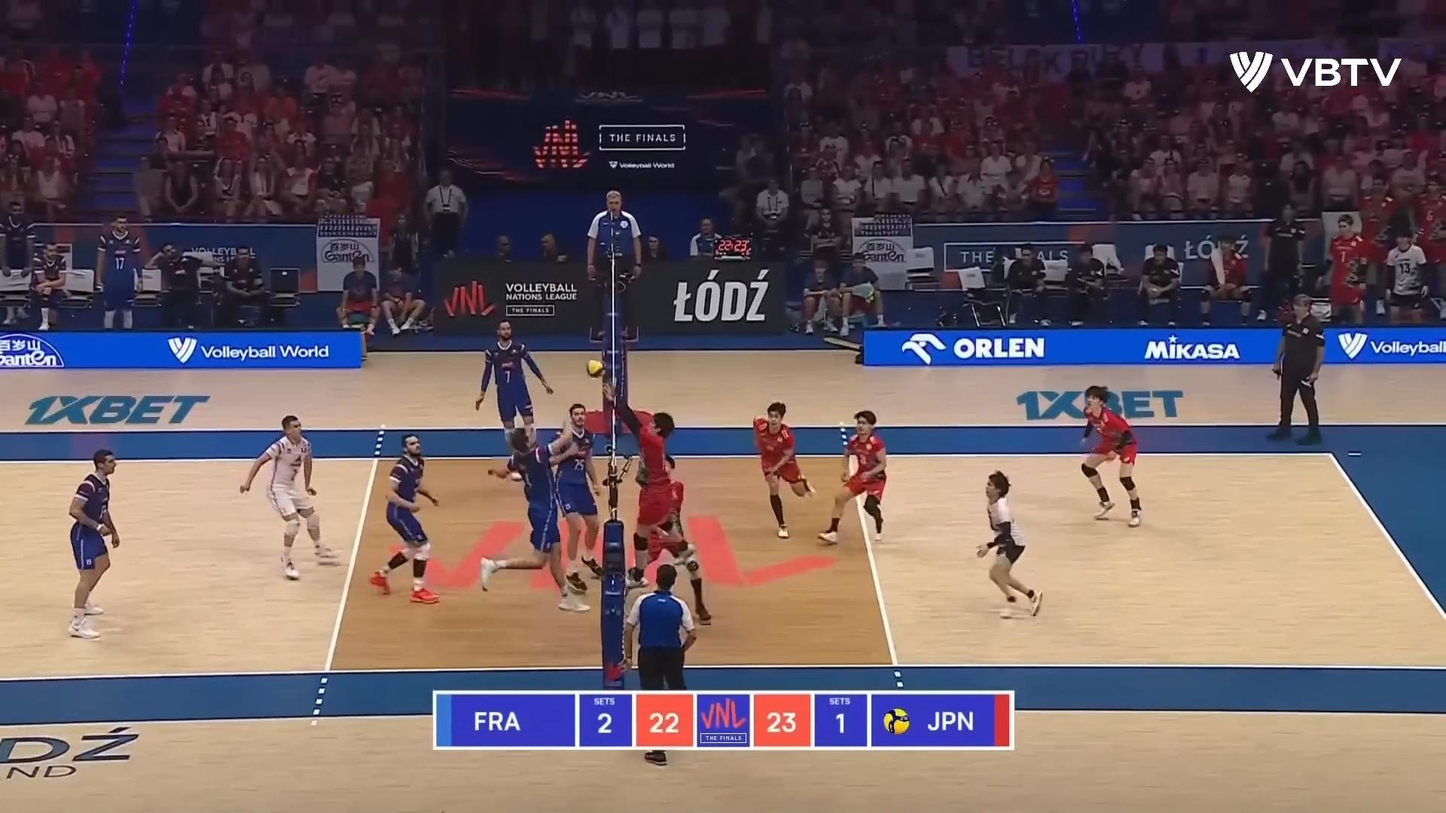ball: (586, 360, 604, 379)
